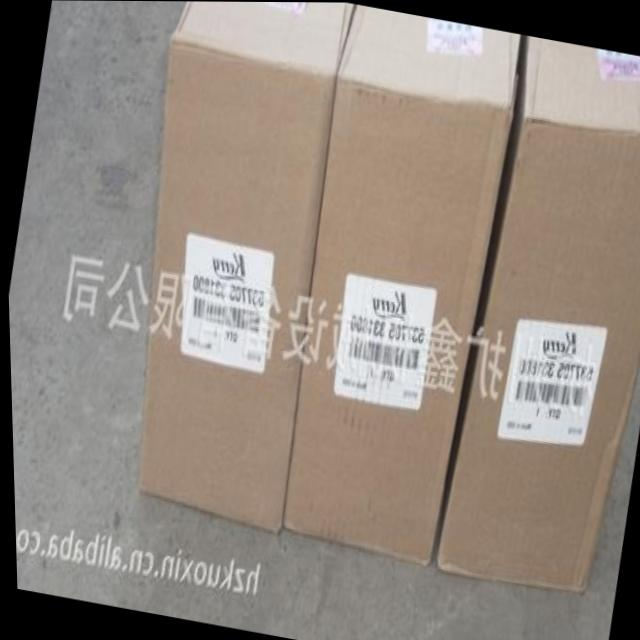box: (278, 5, 520, 565), (133, 1, 355, 533), (432, 34, 640, 593)
